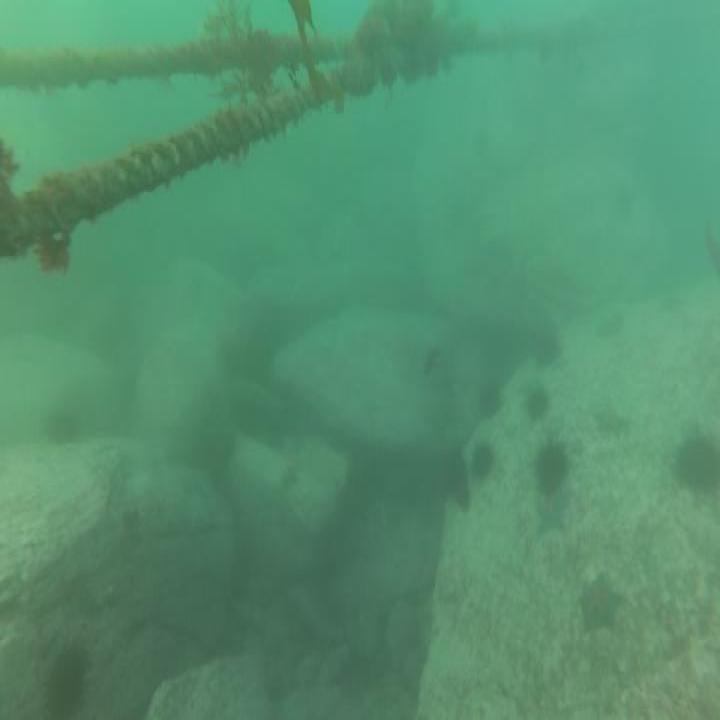echinus: (670, 427, 720, 501), (43, 640, 89, 720), (533, 438, 570, 502), (41, 402, 84, 448), (530, 327, 565, 373), (467, 437, 497, 487), (522, 382, 551, 427), (611, 172, 638, 220), (475, 379, 504, 423), (467, 122, 493, 162)
starfish: (577, 569, 625, 640), (534, 490, 568, 546), (591, 400, 631, 444), (274, 455, 302, 498)
